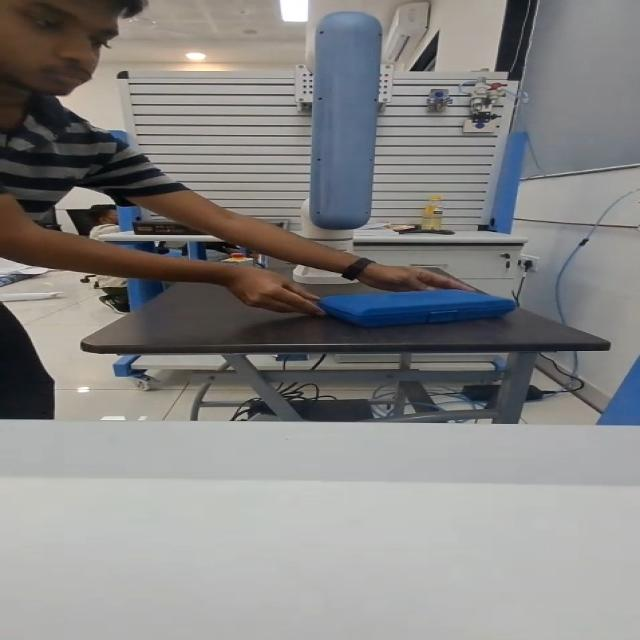top-surface: (357, 291, 475, 305)
